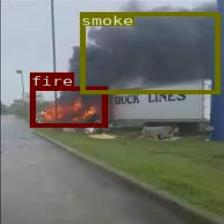fire: (30, 86, 106, 126)
smoke: (80, 12, 219, 94)
